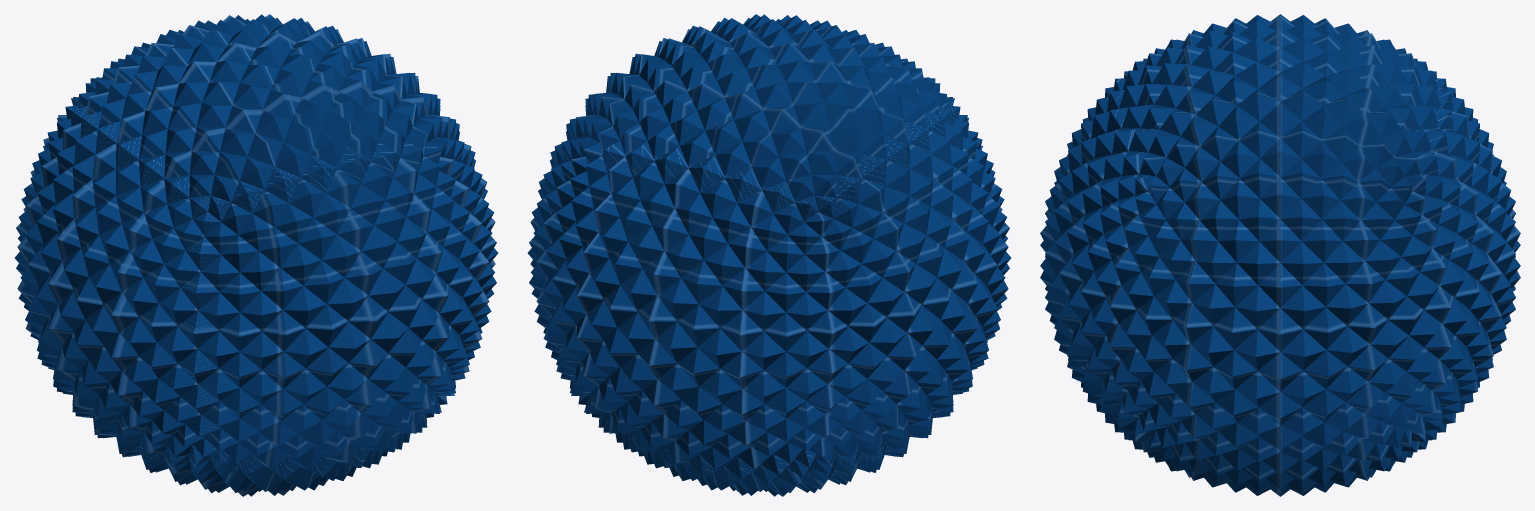
File: spikeball.obj
3 views of the same model, side by side, from view 1: azimuth 30°, elevation 25°; view 2: azimuth 150°, elevation 25°; view 3: azimuth 270°, elevation 25° (orthographic).
Parts seen in each view (by area): view 1: Cube; view 2: Cube; view 3: Cube.
Boxes of the visible parts, x1,y1,x2,y2 form: Cube: (14,14,498,496); Cube: (527,14,1011,496); Cube: (1040,14,1520,496).
Size of the model in its own units: 1.69 by 1.69 by 1.69.
1 material, 1 textured.
